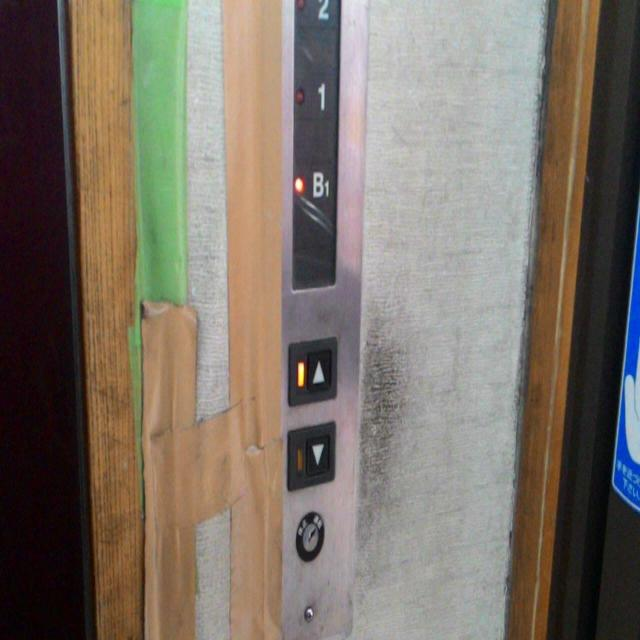down: (284, 416, 338, 492)
keyhole: (296, 511, 324, 561)
up: (286, 332, 338, 408)
